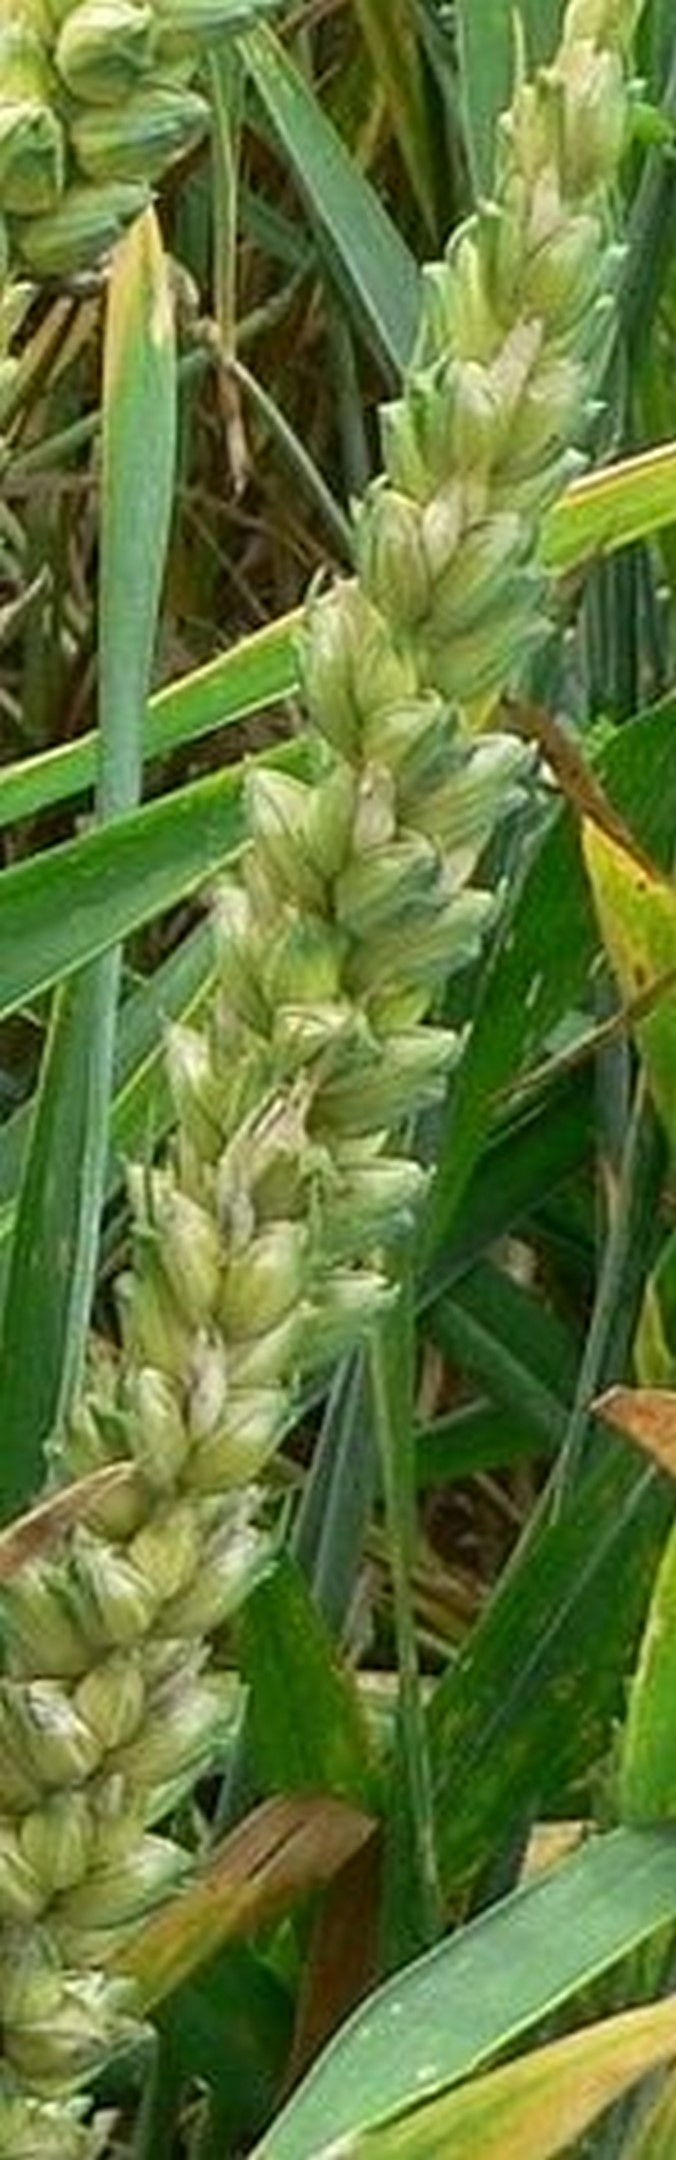Healthy Wheat: (21, 73, 648, 2013)
